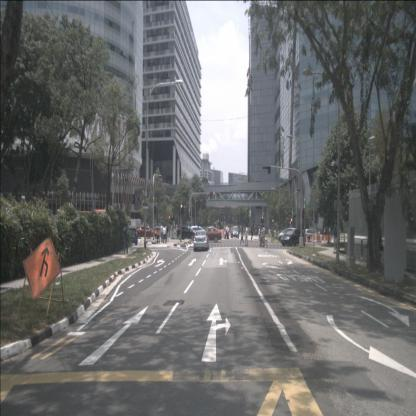human-pedestrian-adult: (122, 223, 128, 254), (332, 221, 338, 252), (262, 224, 268, 247), (155, 226, 161, 245), (240, 225, 245, 247), (244, 225, 249, 247), (160, 223, 164, 244), (260, 226, 264, 247), (166, 226, 170, 243), (165, 224, 168, 244), (258, 226, 261, 242), (224, 225, 227, 240), (251, 226, 254, 241), (272, 228, 275, 242), (164, 226, 166, 244), (318, 230, 321, 241), (227, 225, 229, 240)
movable_object-barrier: (318, 234, 323, 242), (313, 235, 317, 242), (316, 235, 320, 242), (328, 235, 332, 241), (324, 235, 328, 241), (321, 235, 325, 241)
movable_object-trafficcone: (323, 236, 326, 242)
vehicle-car: (281, 230, 306, 246), (201, 226, 222, 243), (193, 230, 209, 252), (177, 225, 197, 240), (278, 227, 296, 243), (136, 225, 158, 238), (191, 226, 208, 241), (303, 229, 321, 242), (126, 227, 138, 245), (231, 226, 239, 239)
